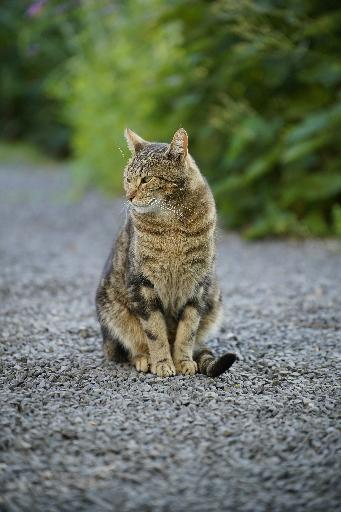cat_sitting: (96, 127, 236, 378)
